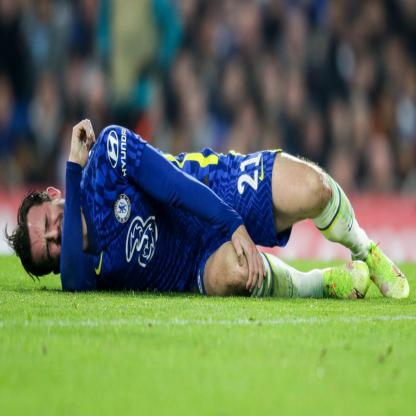football player lies: (16, 95, 409, 306)
